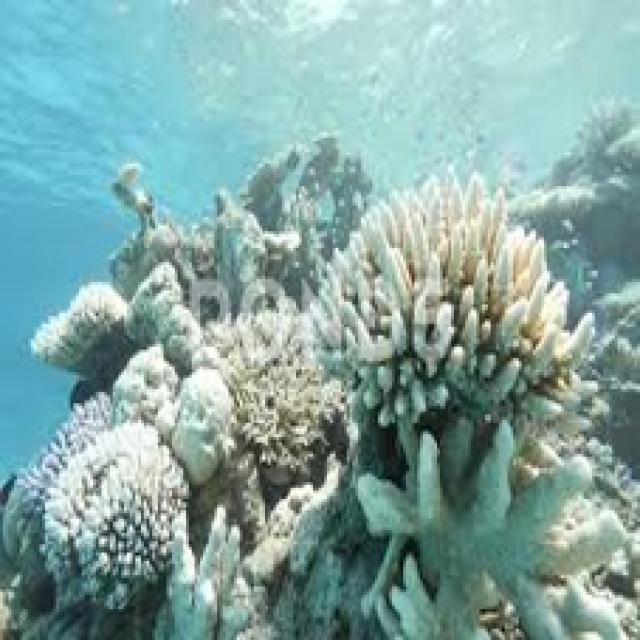Bleached: (320, 180, 578, 419), (355, 427, 627, 640), (47, 423, 182, 607), (211, 314, 337, 470), (161, 502, 244, 640), (126, 266, 207, 364), (36, 283, 123, 369), (110, 341, 181, 442), (173, 364, 232, 480)
